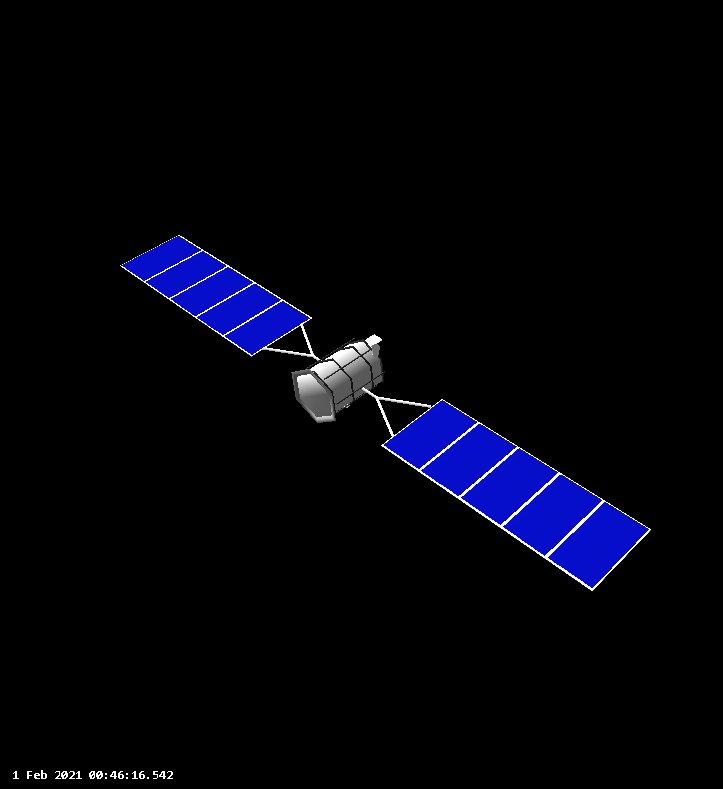body: (292, 335, 385, 422)
solar: (379, 398, 651, 595), (115, 234, 318, 361)
